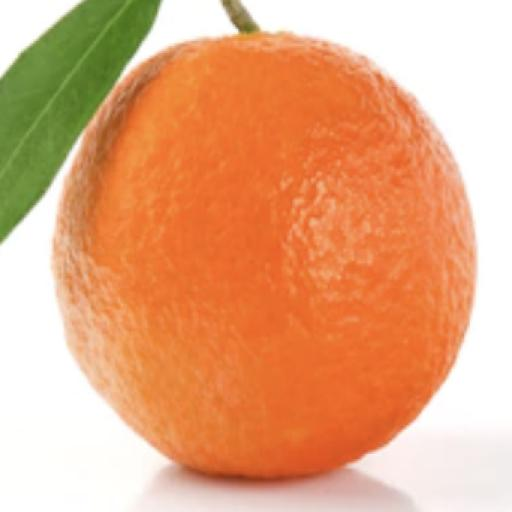orange: (54, 35, 474, 477)
